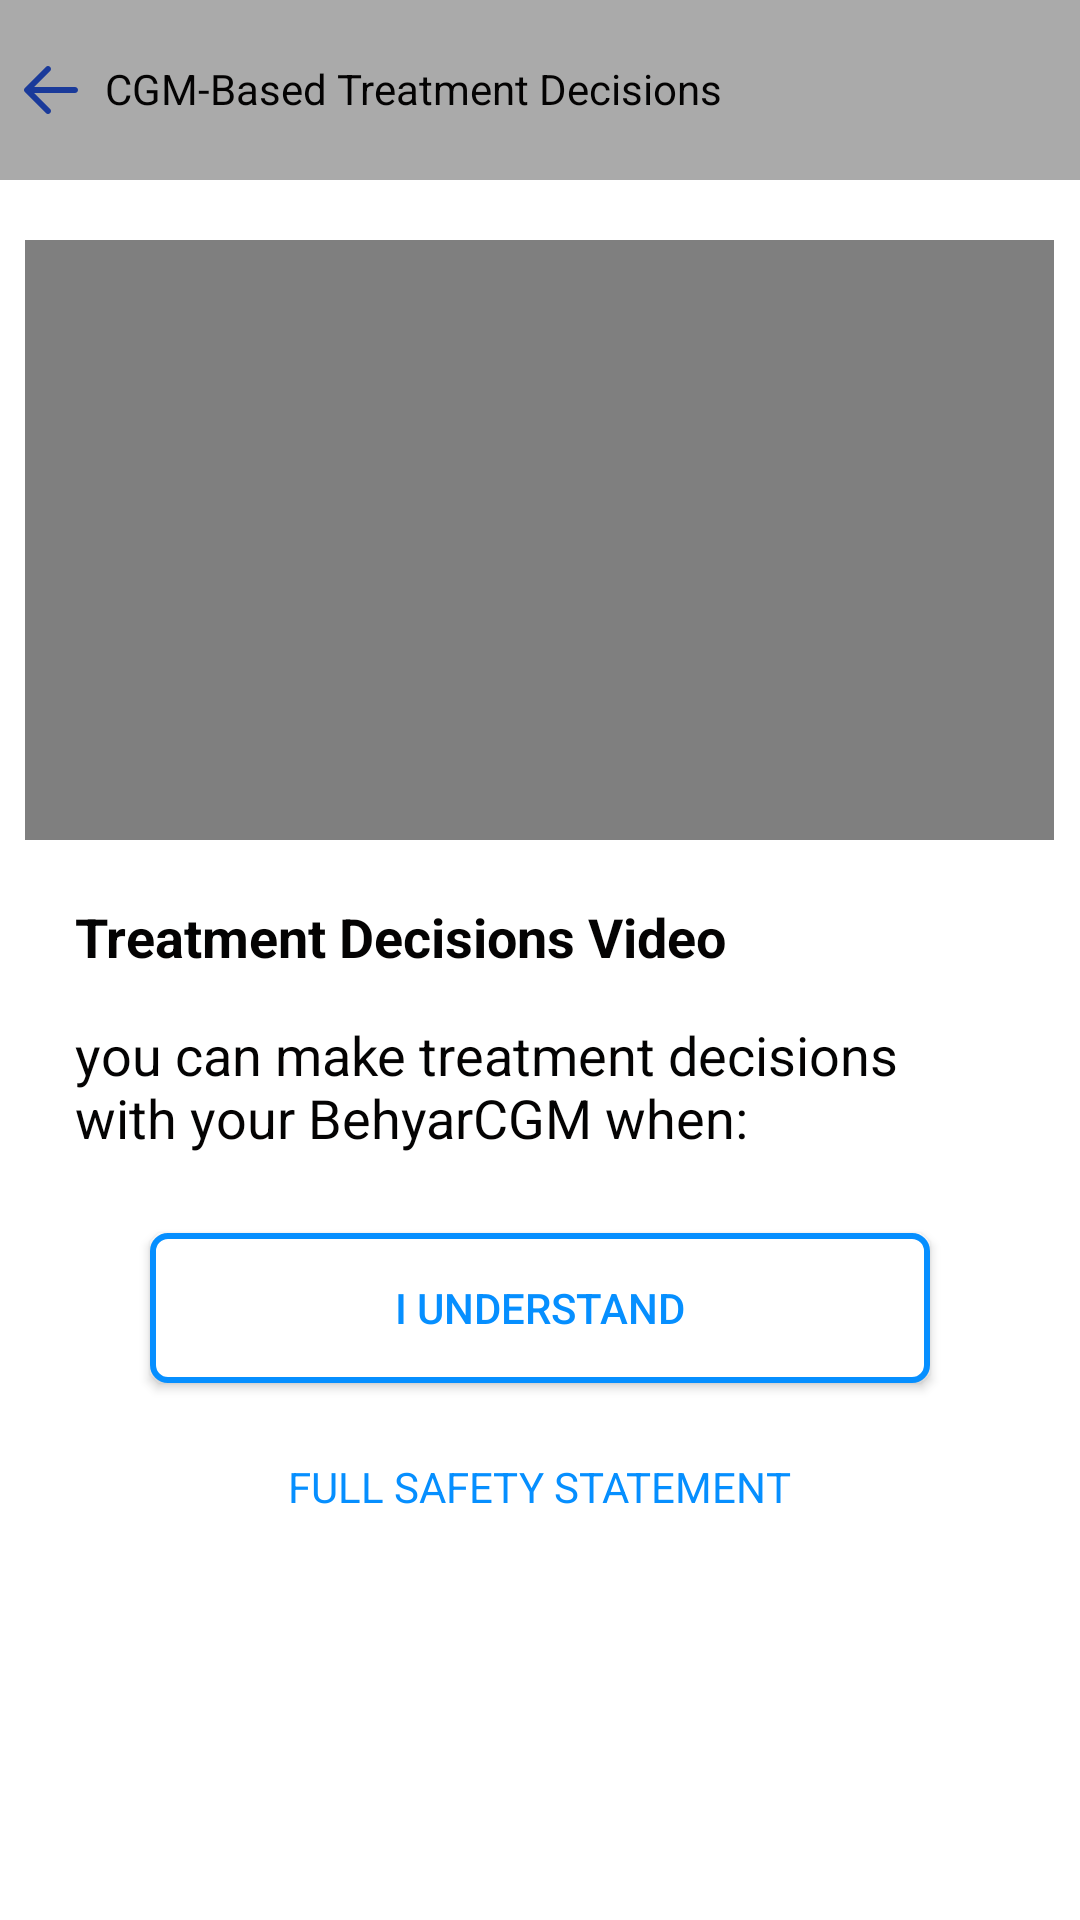

Icon bounding boxes for this 1080px×1920px phone screenshot, format (x1, y1, x2, y2):
left: (24, 66, 78, 114)
